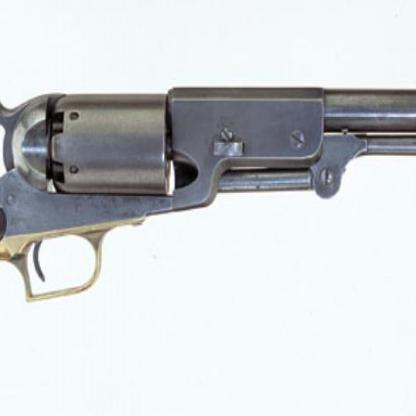gun: (0, 84, 415, 398)
